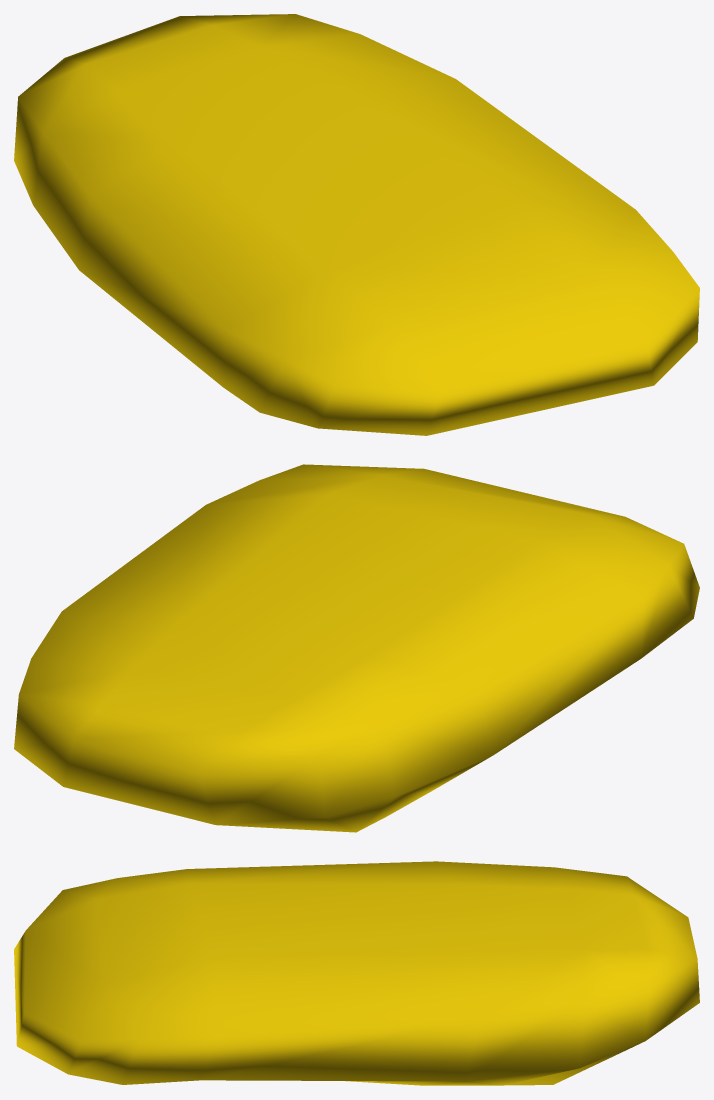
File: Rock_Small_03_Lod1.fbx
The picture shows the model from 3 angles, top to bottom: view 1: azimuth 30°, elevation 25°; view 2: azimuth 150°, elevation 25°; view 3: azimuth 270°, elevation 25°; orthographic projection. The views are drawn at different scales.
Parts seen in each view (by area): view 1: Rock_Small_03_Lod1; view 2: Rock_Small_03_Lod1; view 3: Rock_Small_03_Lod1.
Boxes of the visible parts, box(x1,y1,x2,y2) form: Rock_Small_03_Lod1: box(14, 14, 699, 435); Rock_Small_03_Lod1: box(14, 464, 699, 832); Rock_Small_03_Lod1: box(14, 861, 699, 1085).
Bounding box in the file's own units: 1168 × 394 × 1905.
